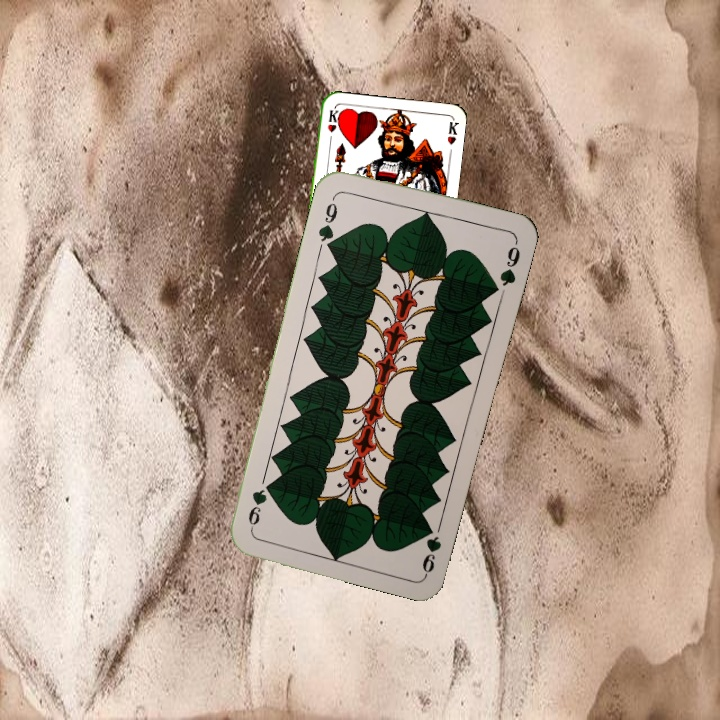G9: (314, 191, 340, 251), (418, 532, 444, 576)
HK: (323, 106, 341, 146)
